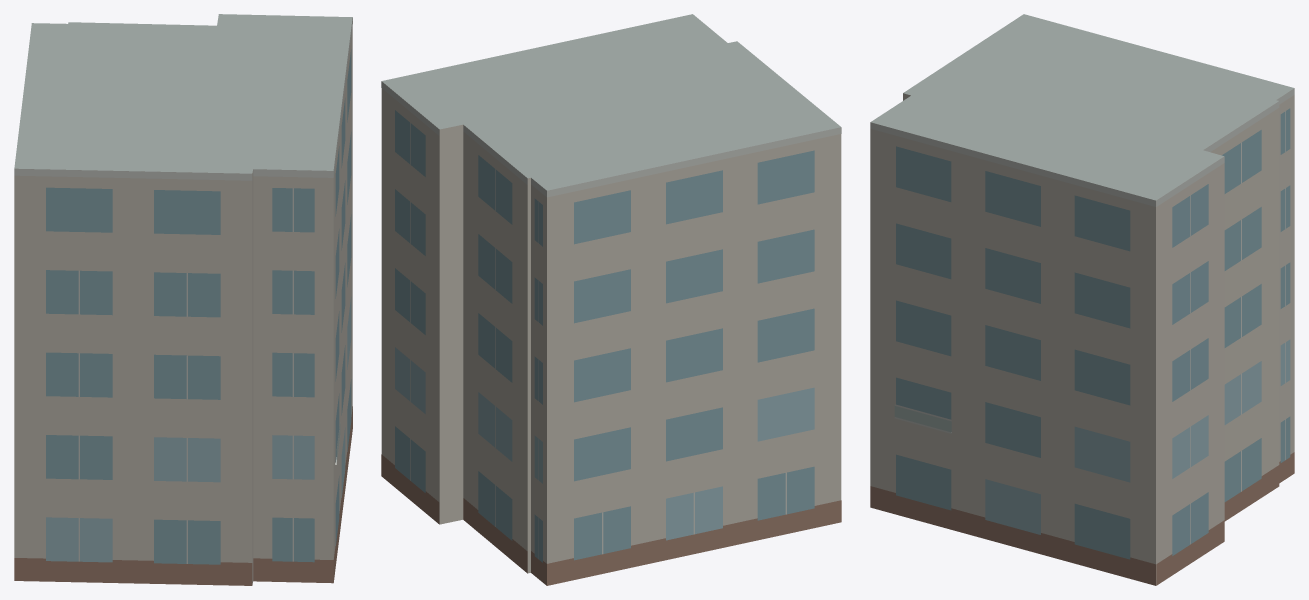
Rendered from survey-upis-32886553.glb.
3 views of the same model, side by side, from view 1: azimuth 30°, elevation 25°; view 2: azimuth 150°, elevation 25°; view 3: azimuth 270°, elevation 25° (orthographic). The views are drawn at different scales.
Parts seen in each view (by area): view 1: survey-upis-32886553.tmp; view 2: survey-upis-32886553.tmp; view 3: survey-upis-32886553.tmp.
Part boxes in pixels (x1,y1,x2,y2): survey-upis-32886553.tmp: (14,14,352,585); survey-upis-32886553.tmp: (381,14,841,585); survey-upis-32886553.tmp: (870,14,1294,585).
Size of the model in its own units: 14.92 by 14.35 by 14.33.
